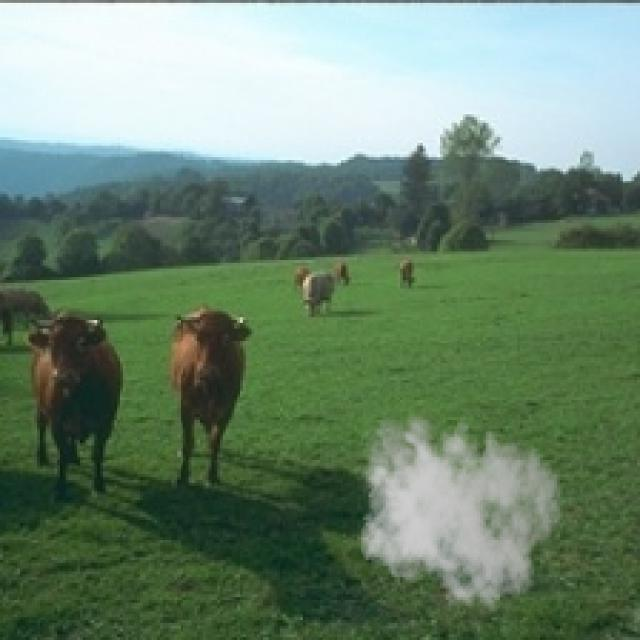Smoke: (351, 403, 563, 614)
